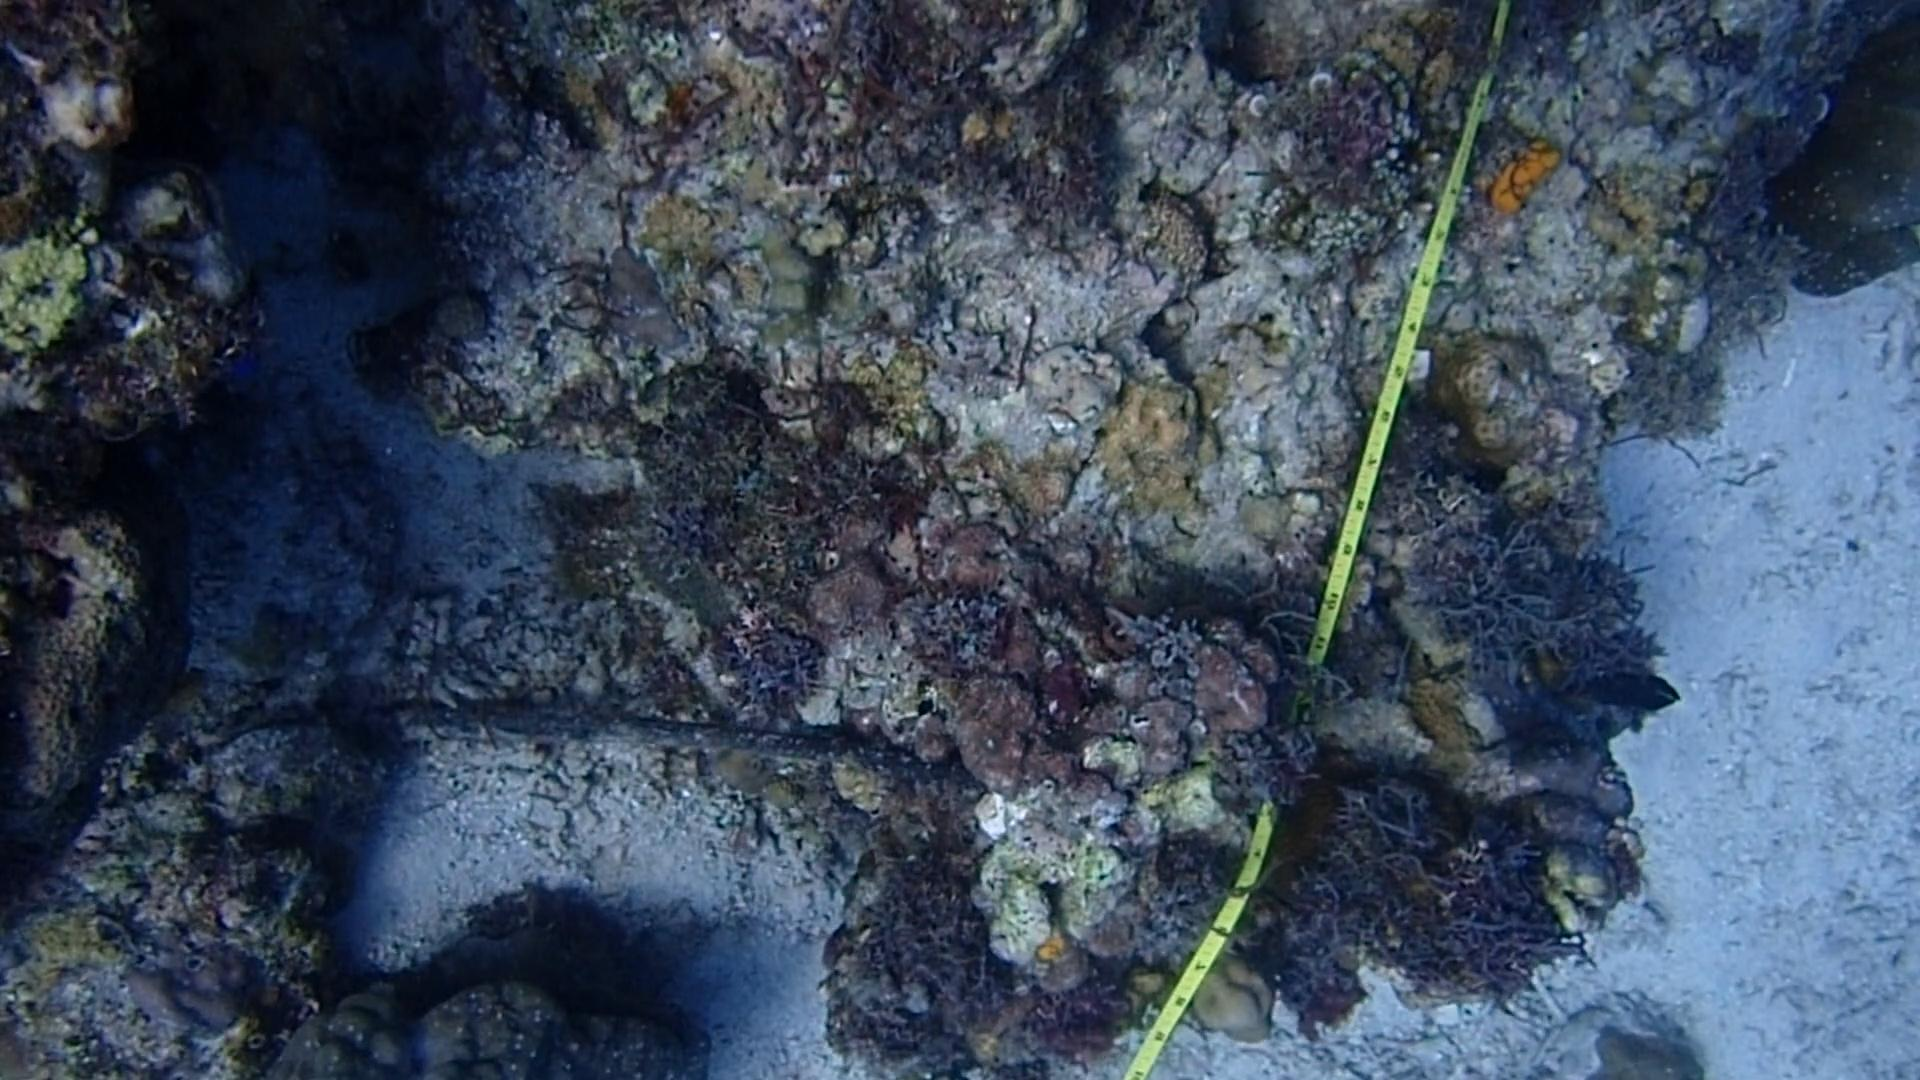Dark Fish: (1585, 657, 1687, 724)
